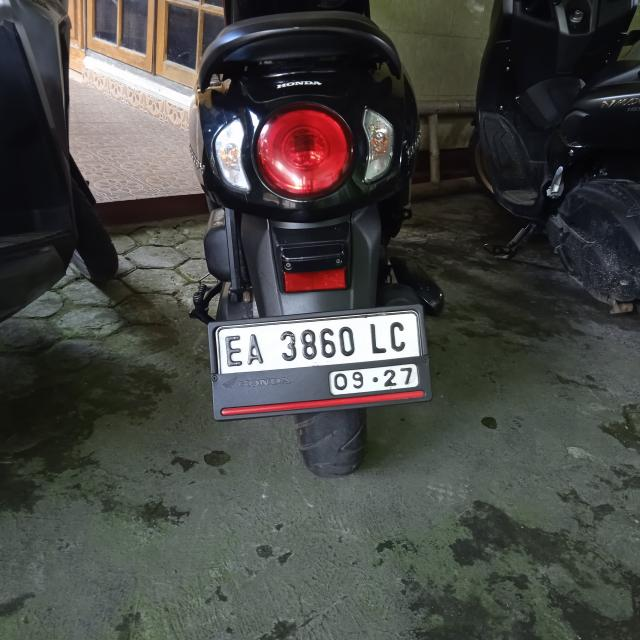plate: (217, 312, 425, 407)
